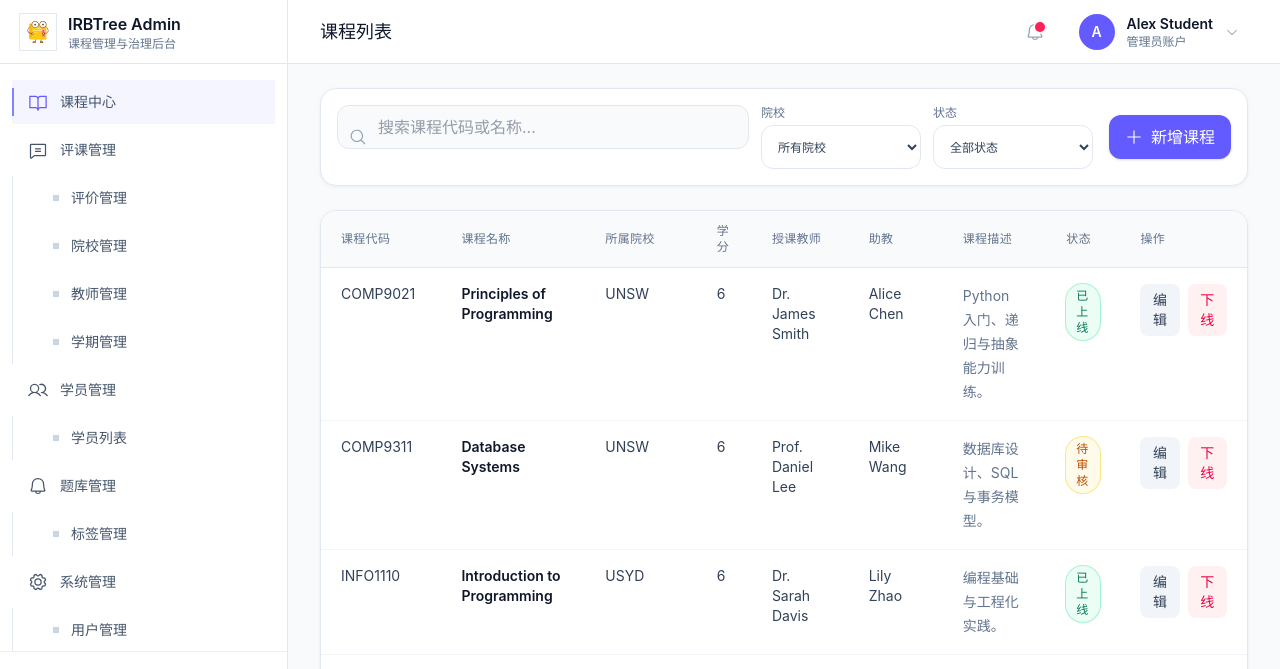
Test: Admin domain navigation › uses the correct link target and navigates to the default child when clicking 题库管理
Click the link "题库管理": (72, 486) [28,476,116,496]
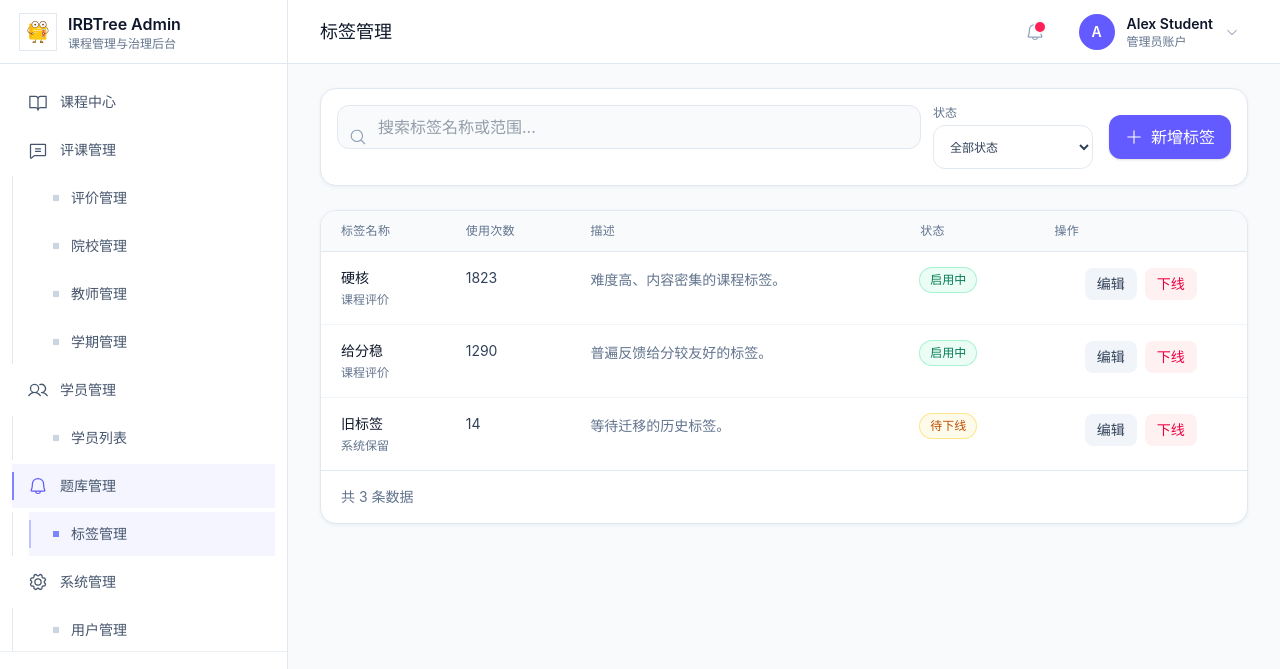
Now the heading "标签管理" is shown, box [320,18,392,46]
